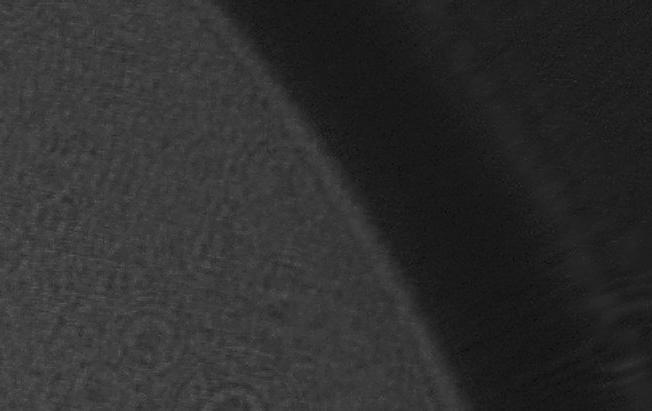bead: (180, 377, 278, 411)
